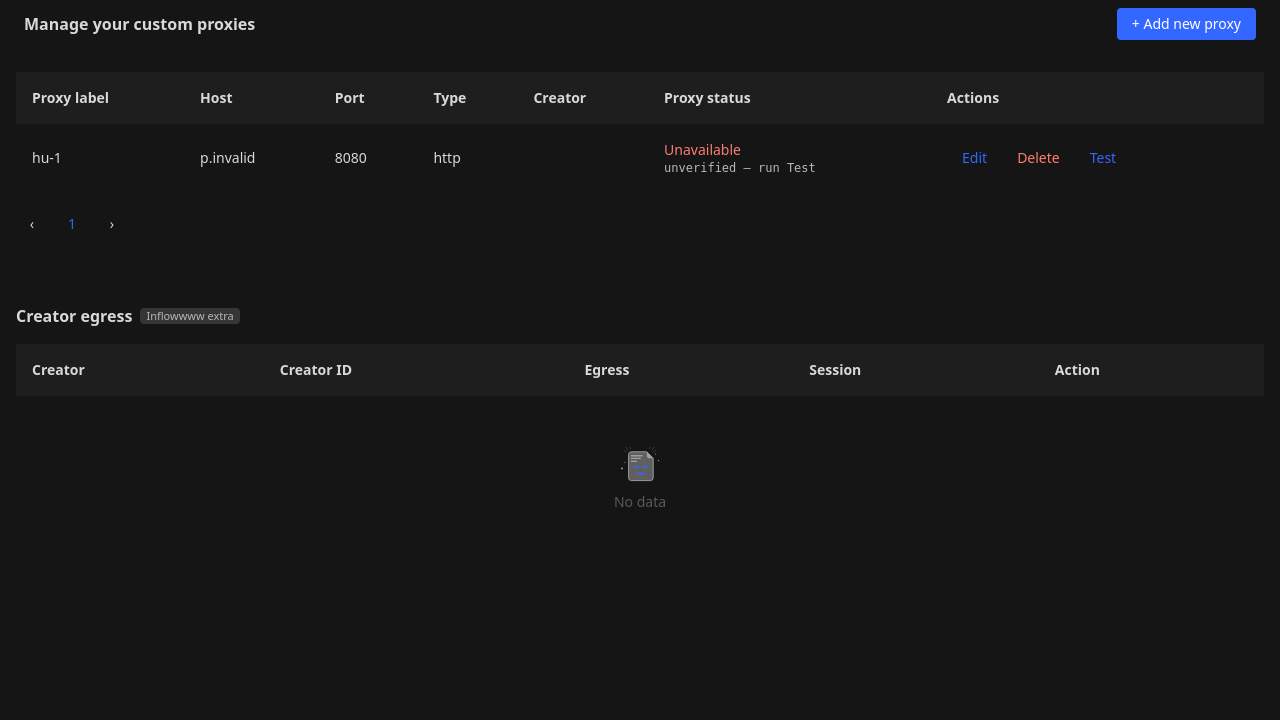
Scenario: ProxiesTable delete of a proxy in use › shows the Relay's 409 message naming the Creators that use it
Step 1. Click the button "Delete" → click(1038, 158), box [1002,142,1075,174]
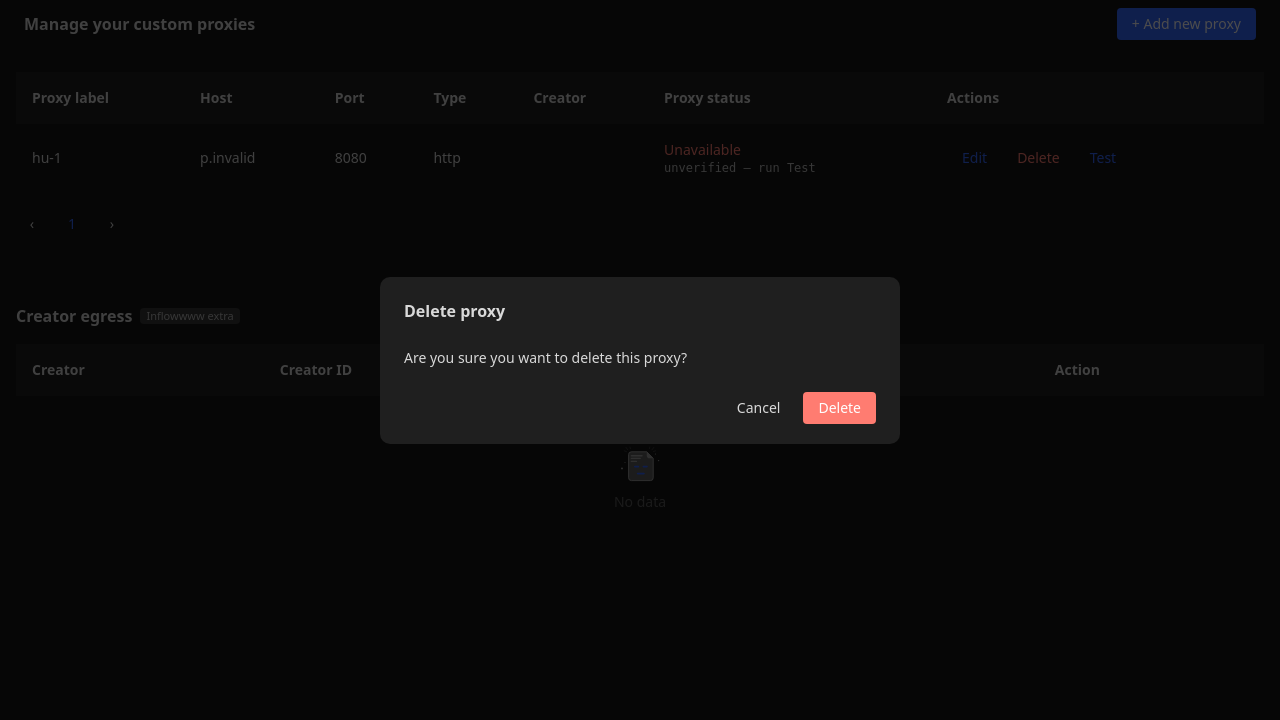
Step 2. Click the button "Delete" → click(840, 408), box [803,392,876,424]
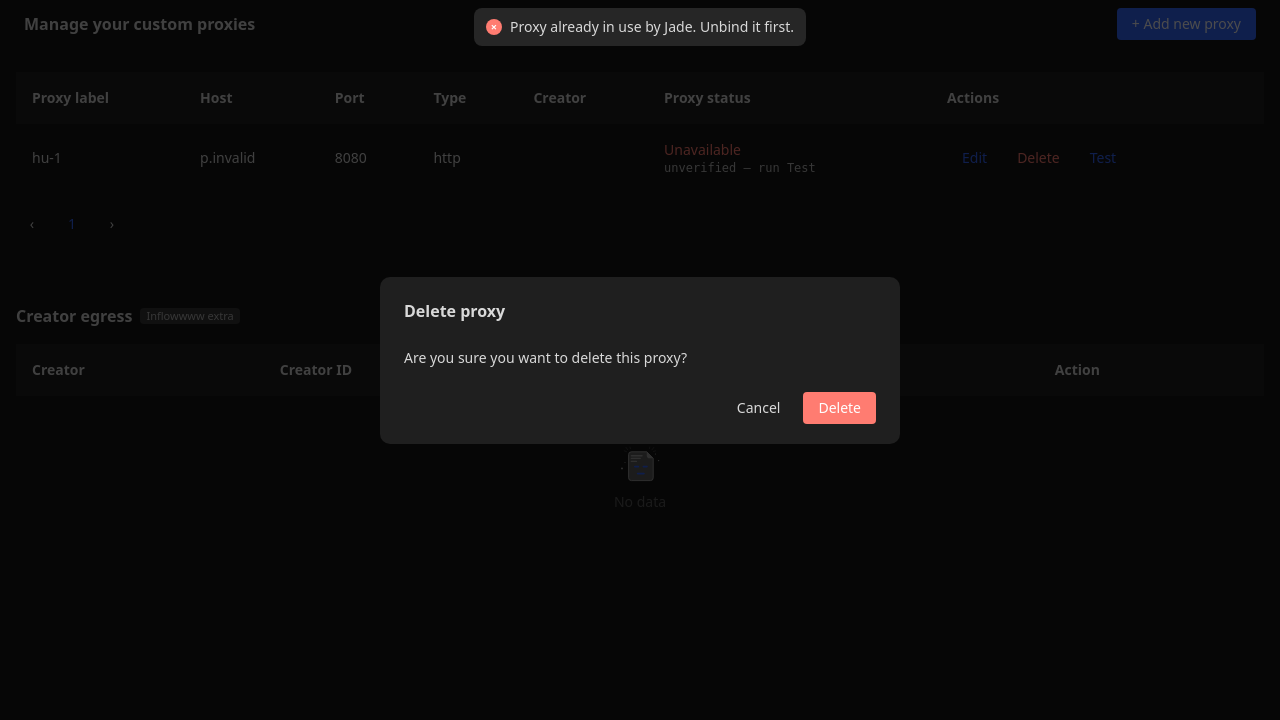
Check: the message shows "Proxy already in use by Jade. Unbind it first.", box [510,17,794,36]
